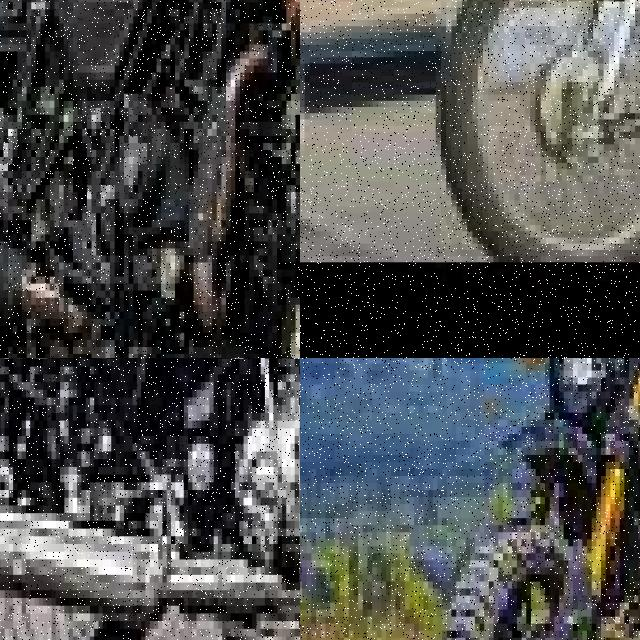bike: (0, 0, 300, 358), (0, 358, 300, 640), (419, 358, 640, 640), (415, 0, 640, 262)
